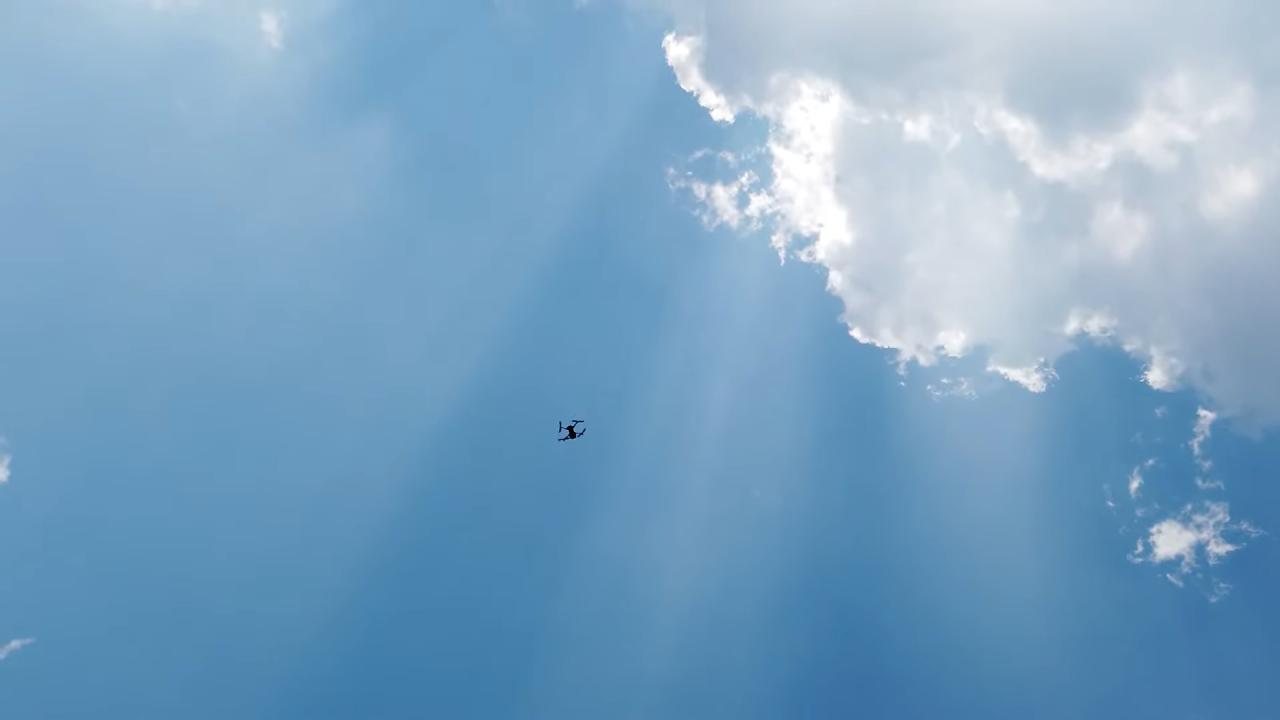Drone: (548, 410, 591, 451)
